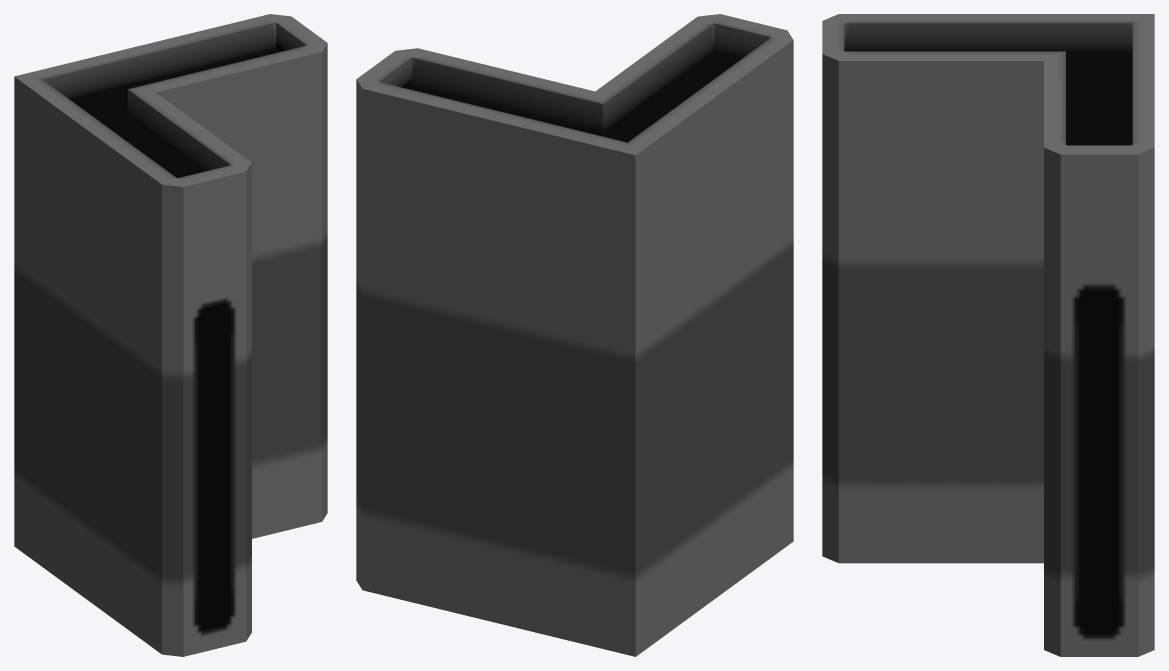
The model's file is wall_double_two_corner1.fbx.
The picture shows the model from 3 angles, left to right: view 1: azimuth 30°, elevation 25°; view 2: azimuth 150°, elevation 25°; view 3: azimuth 270°, elevation 25°; orthographic projection. The views are drawn at different scales.
Parts seen in each view (by area): view 1: wall_double_two_corner1; view 2: wall_double_two_corner1; view 3: wall_double_two_corner1.
Boxes of the visible parts, x1=… form: wall_double_two_corner1: x1=14, y1=14, x2=327, y2=656; wall_double_two_corner1: x1=356, y1=14, x2=793, y2=656; wall_double_two_corner1: x1=822, y1=14, x2=1154, y2=656.
Bounding box in the file's own units: 0.6 × 1 × 0.6.
Materials: 1 (1 with a texture image).
